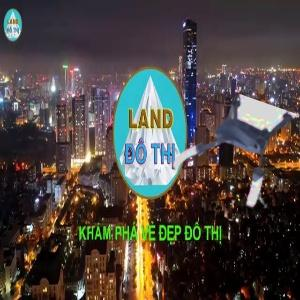drone: (176, 95, 286, 205)
